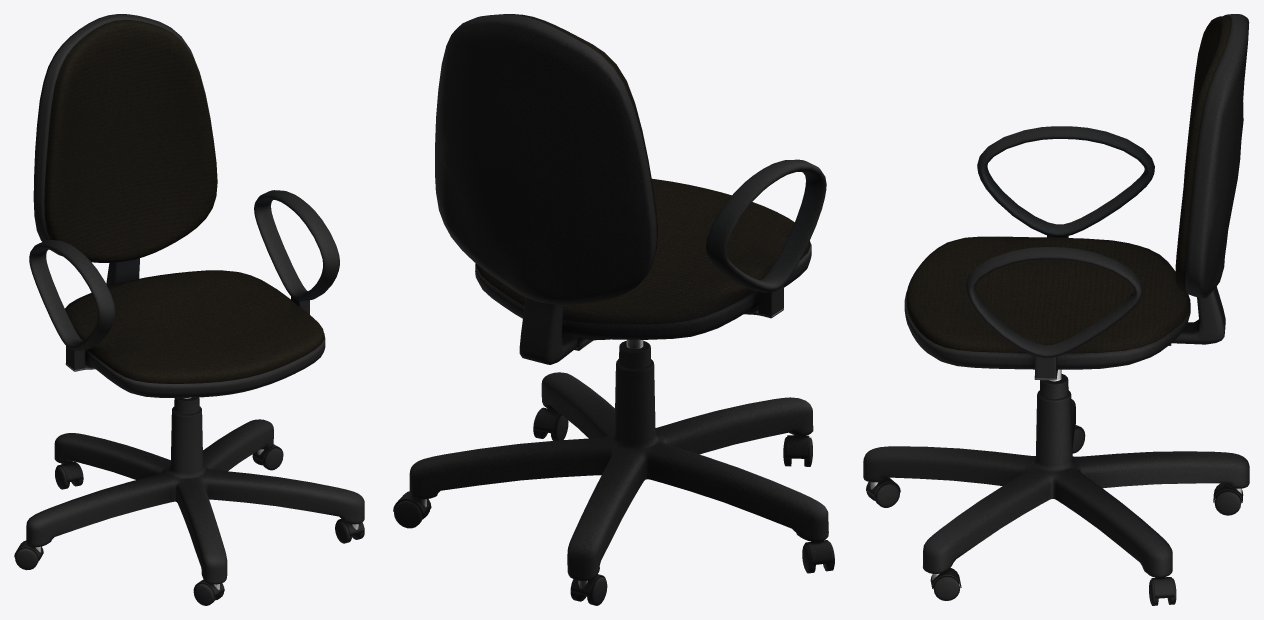
Rendered from off-chair7.glb.
The picture shows the model from 3 angles, left to right: view 1: azimuth 30°, elevation 25°; view 2: azimuth 150°, elevation 25°; view 3: azimuth 270°, elevation 25°; orthographic projection. The views are drawn at different scales.
Parts seen in each view (by area): view 1: Material3-material-material; view 2: Material3-material-material; view 3: Material3-material-material.
Boxes of the visible parts, <box> form: Material3-material-material: <box>14,14,364,605</box>; Material3-material-material: <box>393,14,834,605</box>; Material3-material-material: <box>863,14,1249,605</box>.
Size of the model in its own units: 0.7776 by 1.1 by 0.7532.
6 materials, 6 textured.
